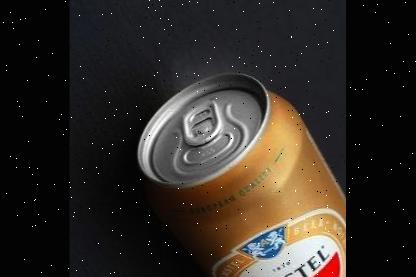Can: (135, 72, 345, 277)
